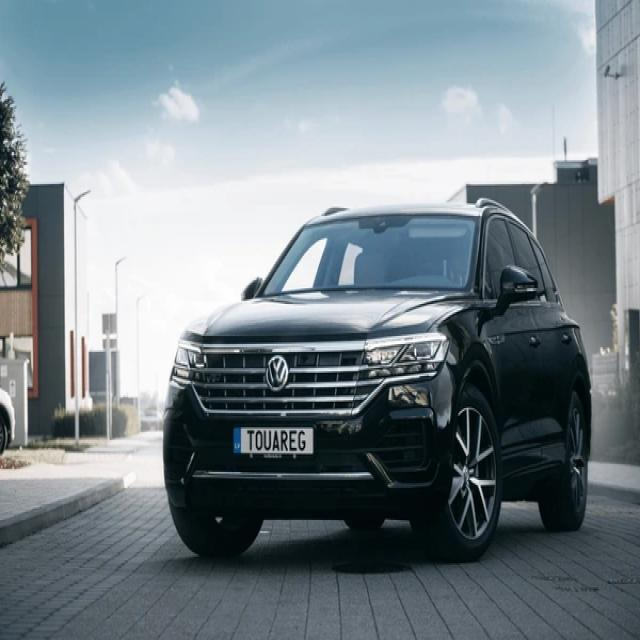wolksvogen: (268, 356, 291, 394)
